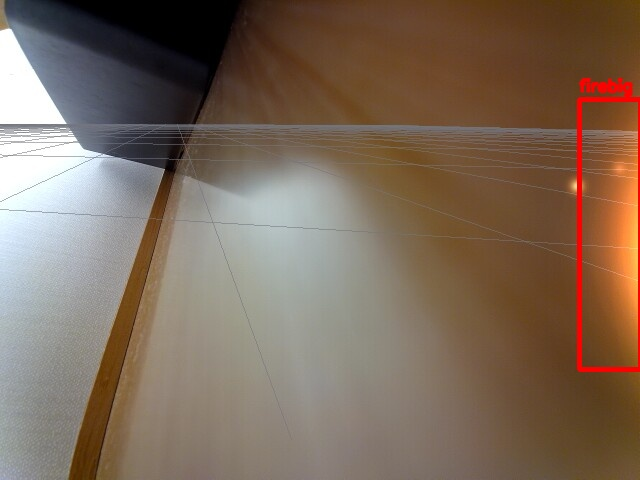firebig: (579, 99, 640, 369)
